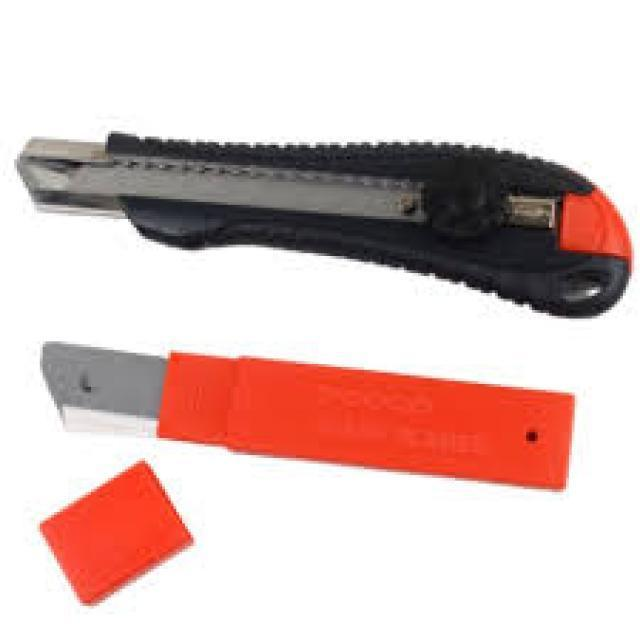cutter: (9, 98, 636, 342)
